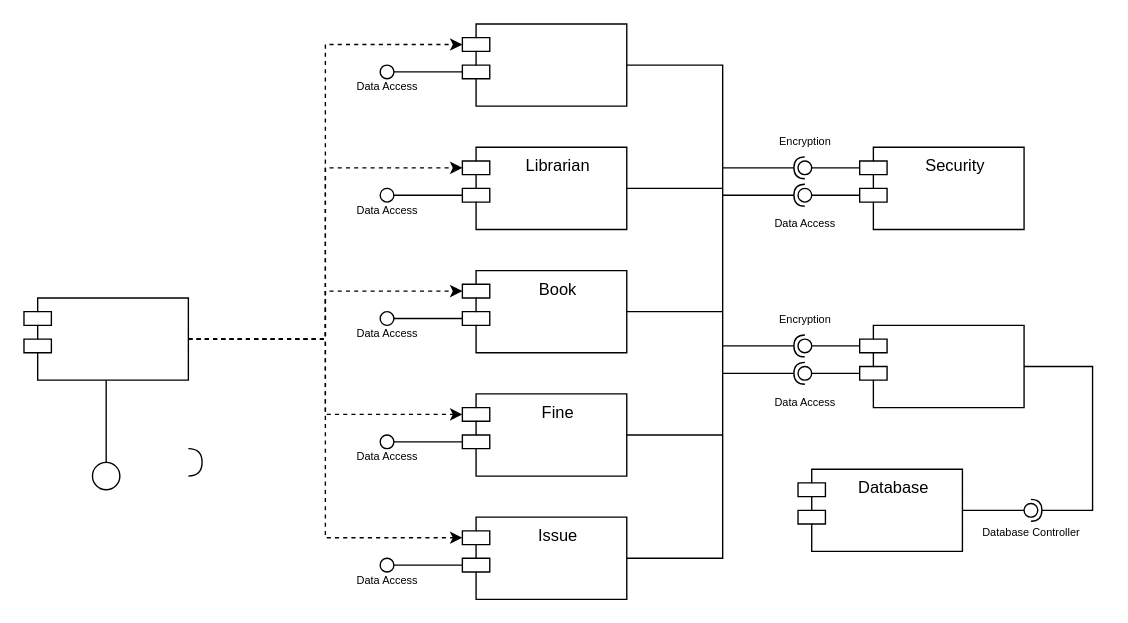
Image size: 1128x623. Some labels were removed from this diagram. The shapes that lost their labels are listed below. From the top down, each one's centre as x and y in pixels, then its label:
point 544,64: User
point 105,338: Library Management System
point 941,366: Persistance
